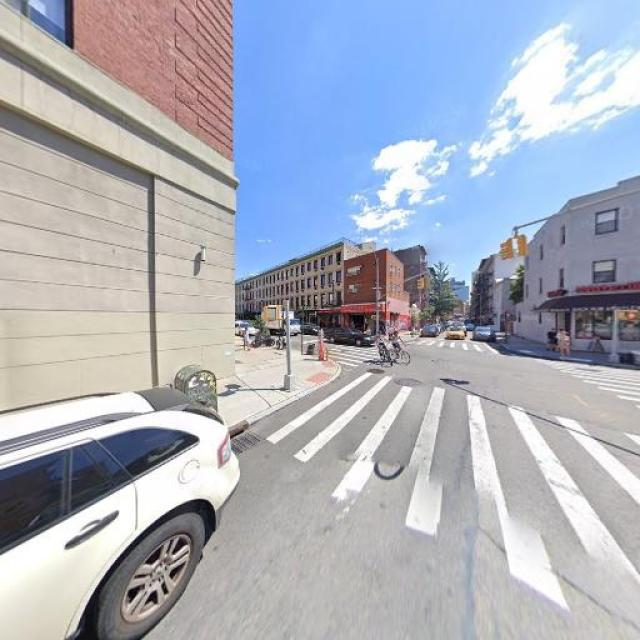Building: (1, 1, 234, 427), (525, 177, 640, 353), (237, 243, 342, 327), (345, 249, 402, 329)
